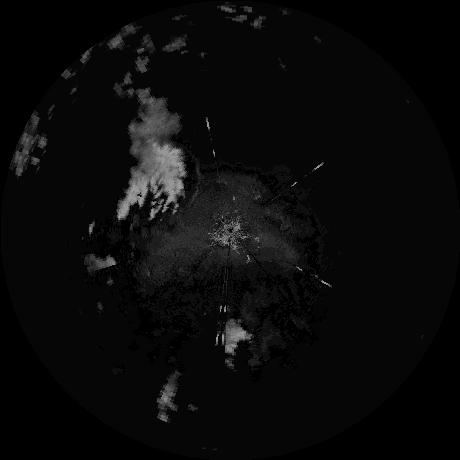frontgust: (187, 149, 203, 211)
